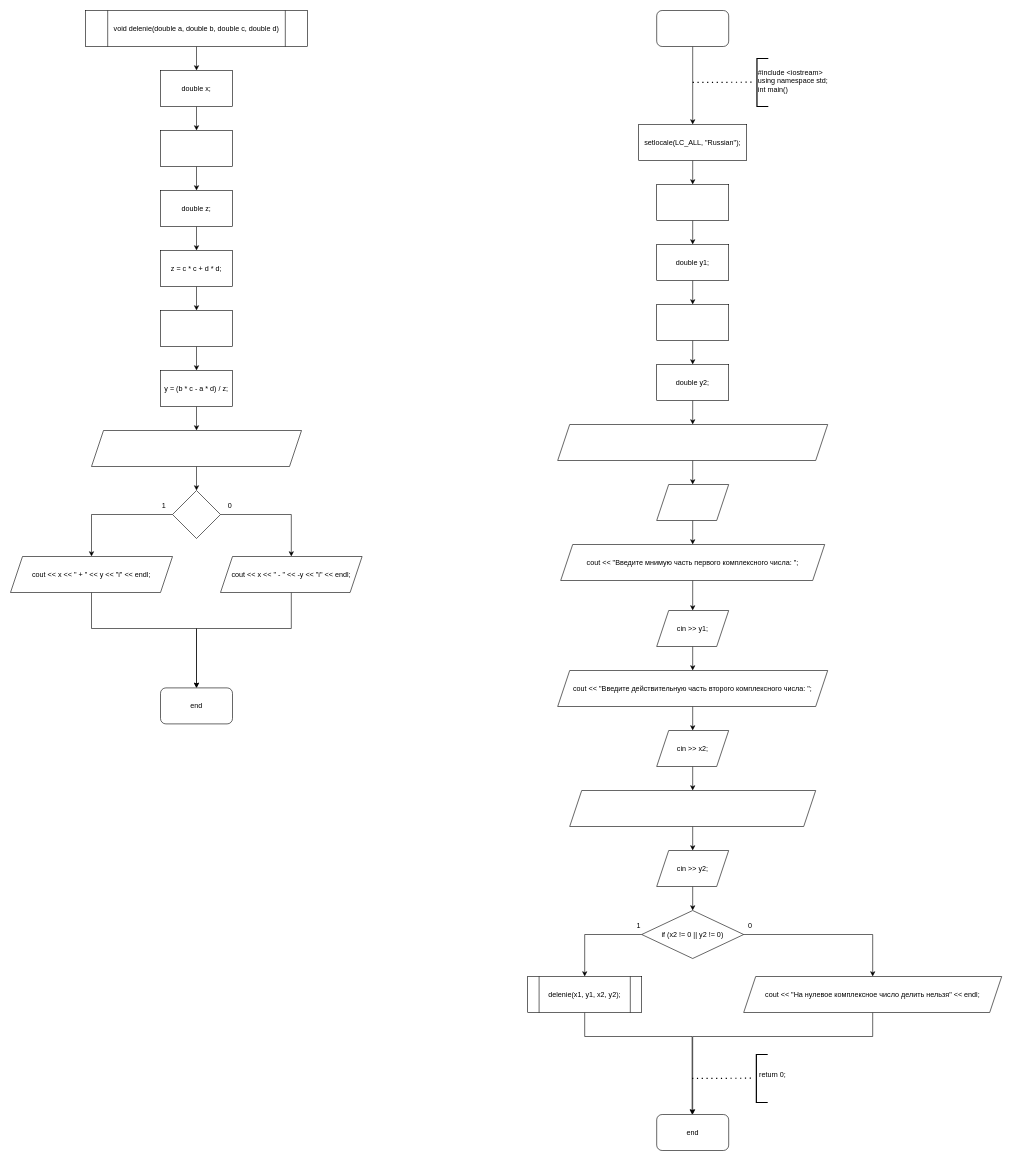
Image size: 1012x1161. Some labels were removed from this diagram. Here are the shapes that lost their labels. From the top down, the centre of each, then its label:
(692,28): start
(196,148): double y;
(692,202): double x1;
(196,328): x = (a * c + b * d) / z;
(692,322): double x2;
(196,448): cout << "Результат деления комплексных чисел: ";
(692,442): cout << "Введите действительную часть первого комплексного числа: ";
(196,514): if (y >= 0)
(692,502): cin >> x1;
(692,808): cout << "Введите мнимую часть второго комплексного числа: ";
